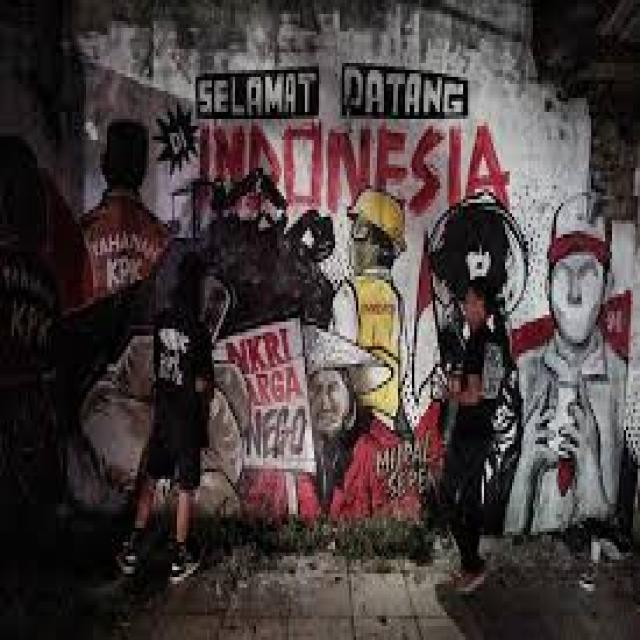-: (79, 66, 630, 530)
